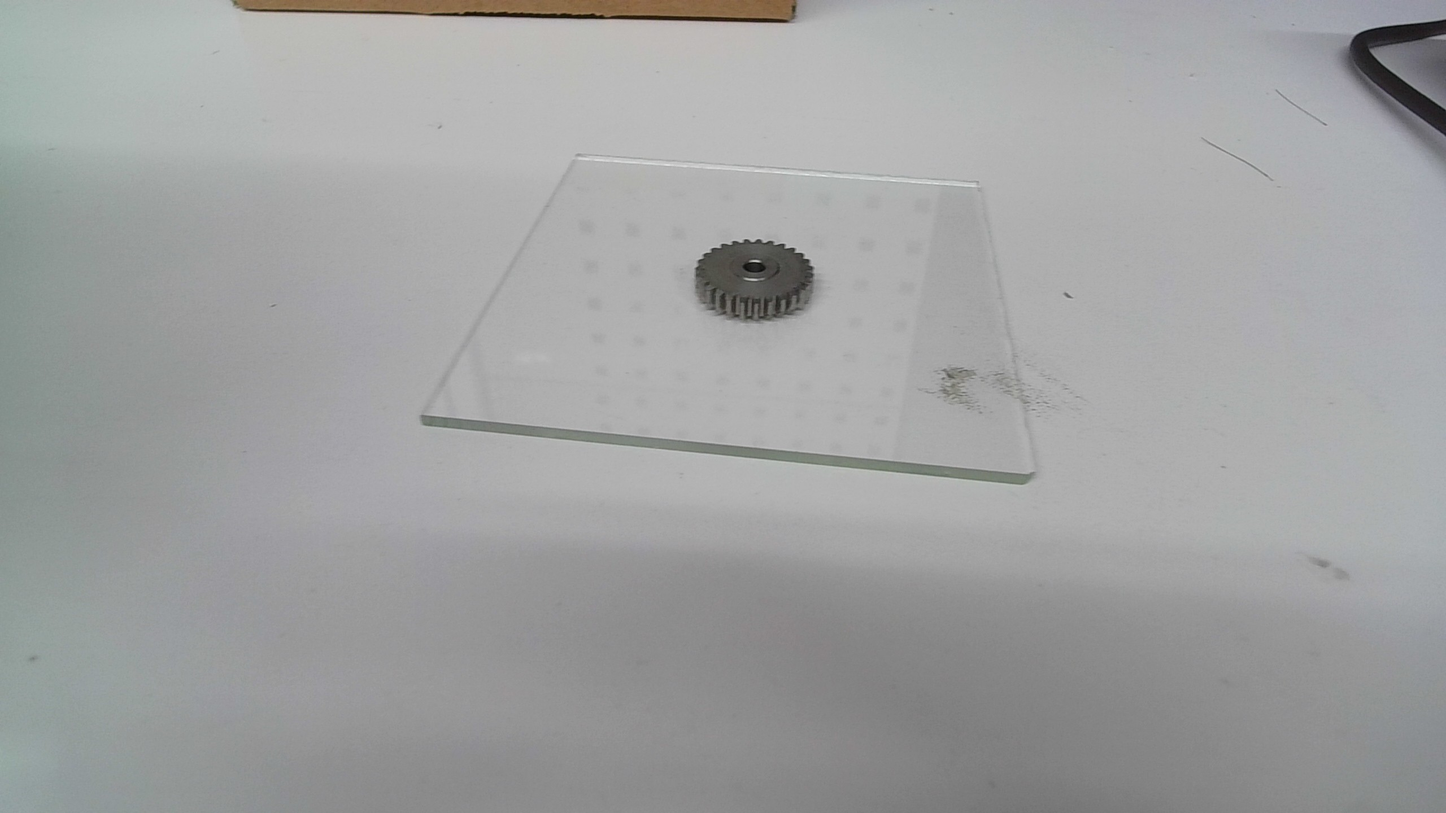gear: (692, 236, 818, 324)
